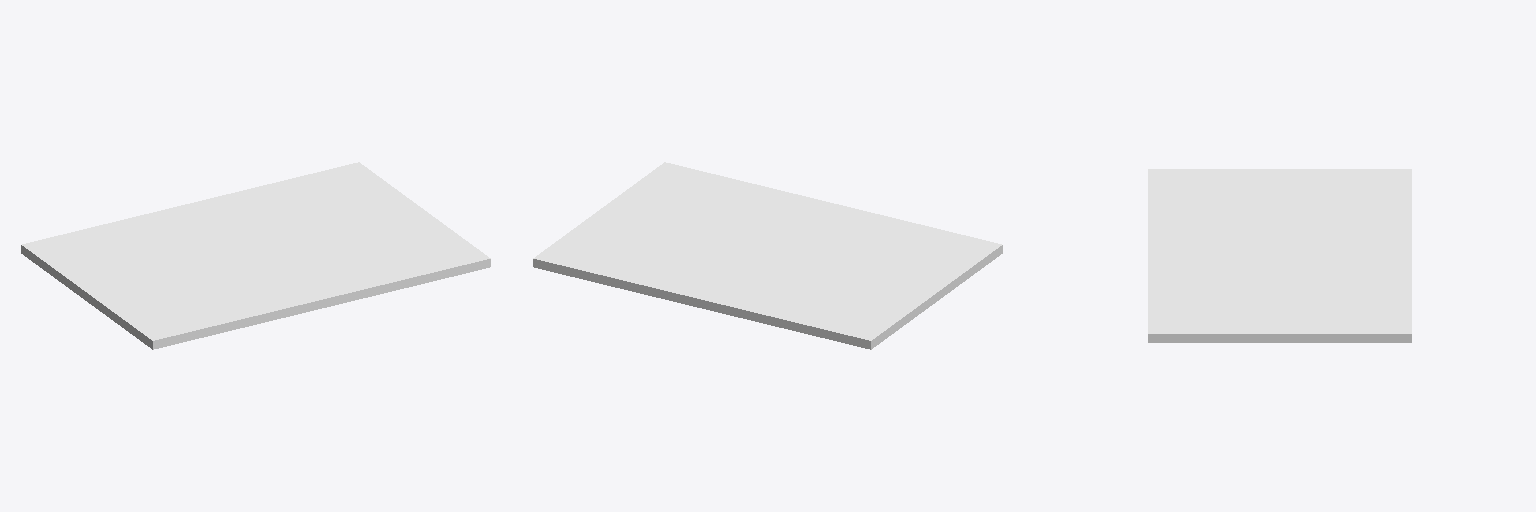
Rendered from spaceshuttlelane_v1.obj.
3 views of the same model, side by side, from view 1: azimuth 30°, elevation 25°; view 2: azimuth 150°, elevation 25°; view 3: azimuth 270°, elevation 25° (orthographic).
Visible parts, largest first — view 1: object 1; view 2: object 1; view 3: object 1.
Boxes of the visible parts, box(x1,y1,x2,y2) form: object 1: box(21, 162, 490, 349); object 1: box(533, 162, 1002, 349); object 1: box(1148, 169, 1411, 342).
Bounding box in the file's own units: 4 × 0.1 × 2.7.